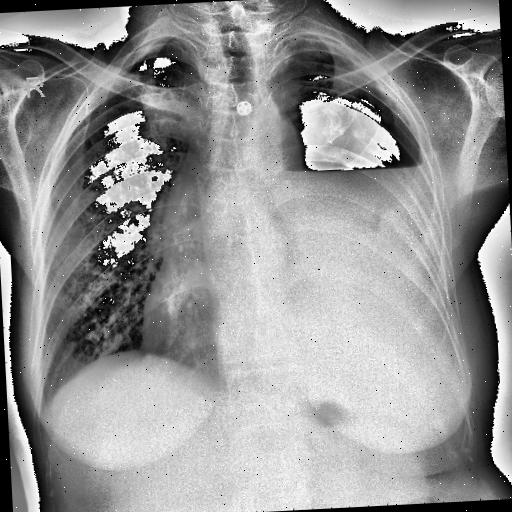10- Pleural effusion: (277, 138, 464, 412), (259, 158, 456, 395), (268, 165, 451, 321)
11- Pleural thickening: (326, 30, 392, 94)
12- Pneumothorax: (268, 21, 427, 173), (264, 36, 430, 175), (280, 27, 420, 173)
9- Other lesion: (308, 106, 368, 152)
